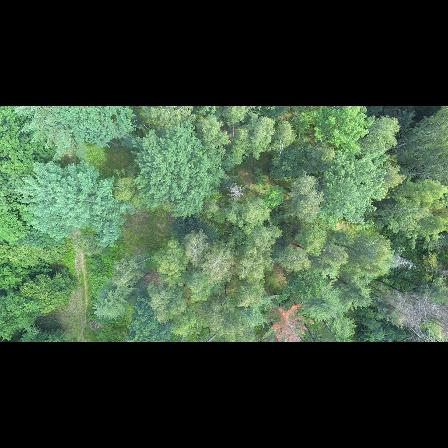Dead: (378, 276, 430, 307), (387, 314, 434, 342), (382, 292, 426, 316), (381, 249, 424, 270), (225, 182, 248, 203)
